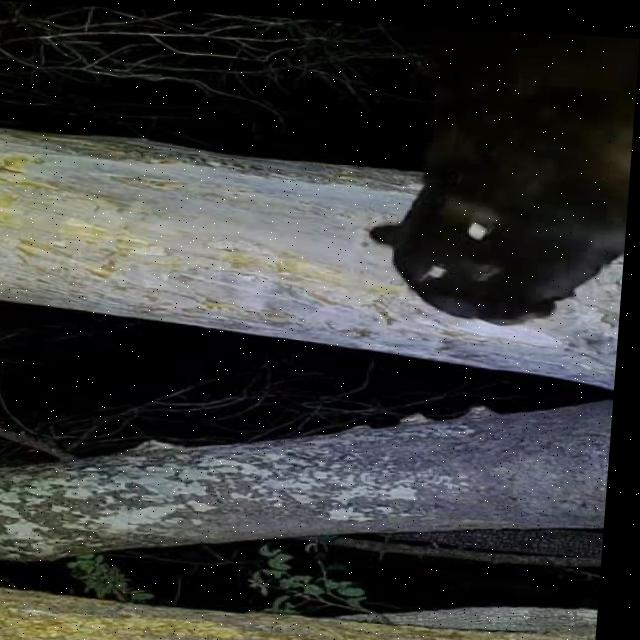bear face: (364, 18, 640, 322)
